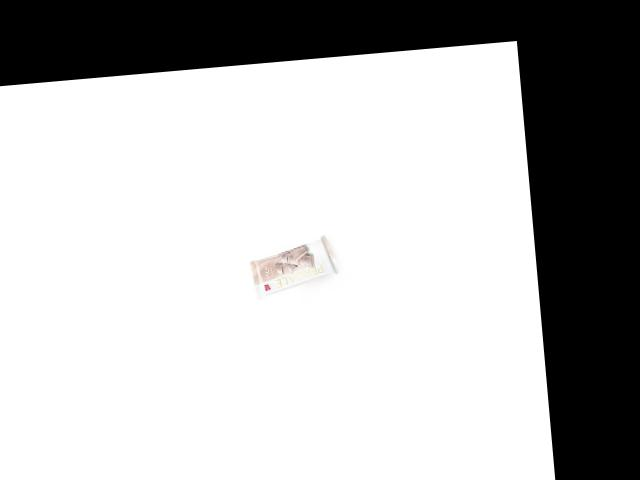chocolate: (247, 228, 334, 302)
